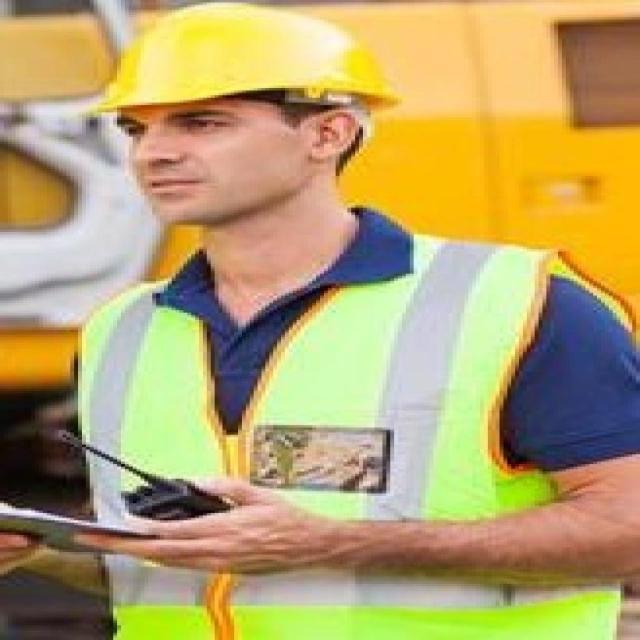Helmet: (59, 0, 441, 220)
Safety Vest: (18, 231, 640, 640)
